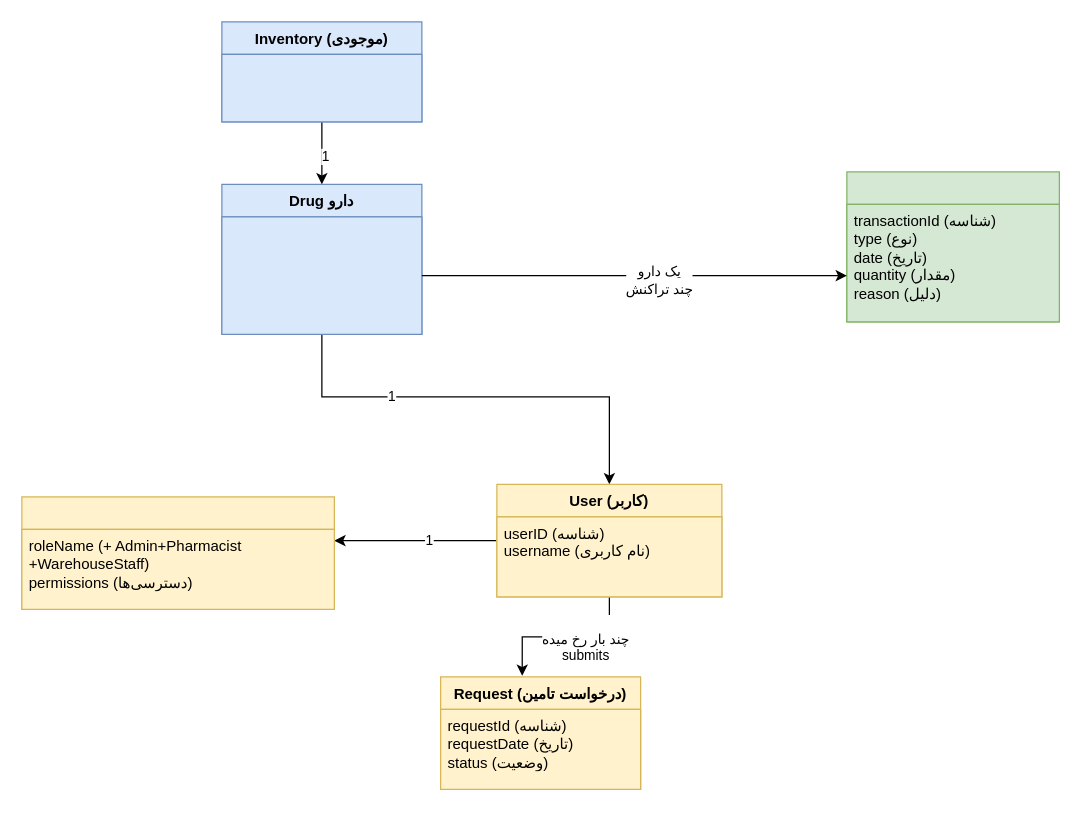
This 1081x815 diagram has some shape labels left out. Each missing label, with the box of its shape:
drugID (شناسه) name (نام) code (کد) expiryDate (تاریخ انقضا): (221, 216, 422, 334)
quantity (مقدار) minThreshold (حداقل موجودی): (221, 53, 422, 122)
Role (نقش): (21, 496, 334, 609)
Transaction (تراکنش): (846, 171, 1059, 322)
